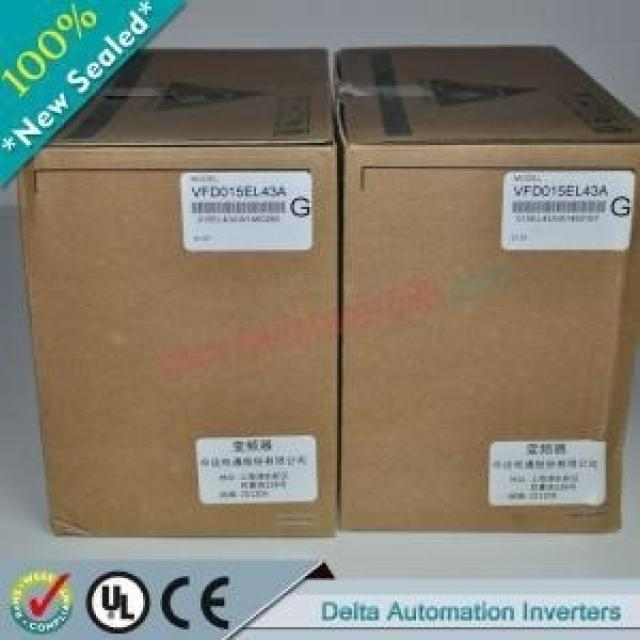box: (16, 47, 340, 535), (333, 45, 638, 532)
